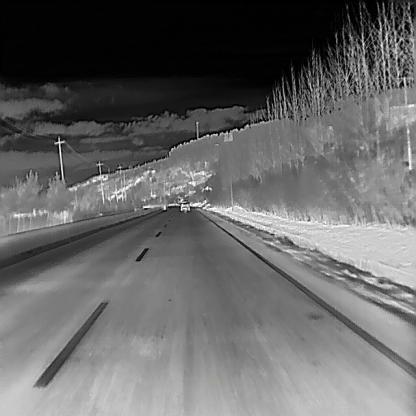car: (180, 199, 190, 211)
